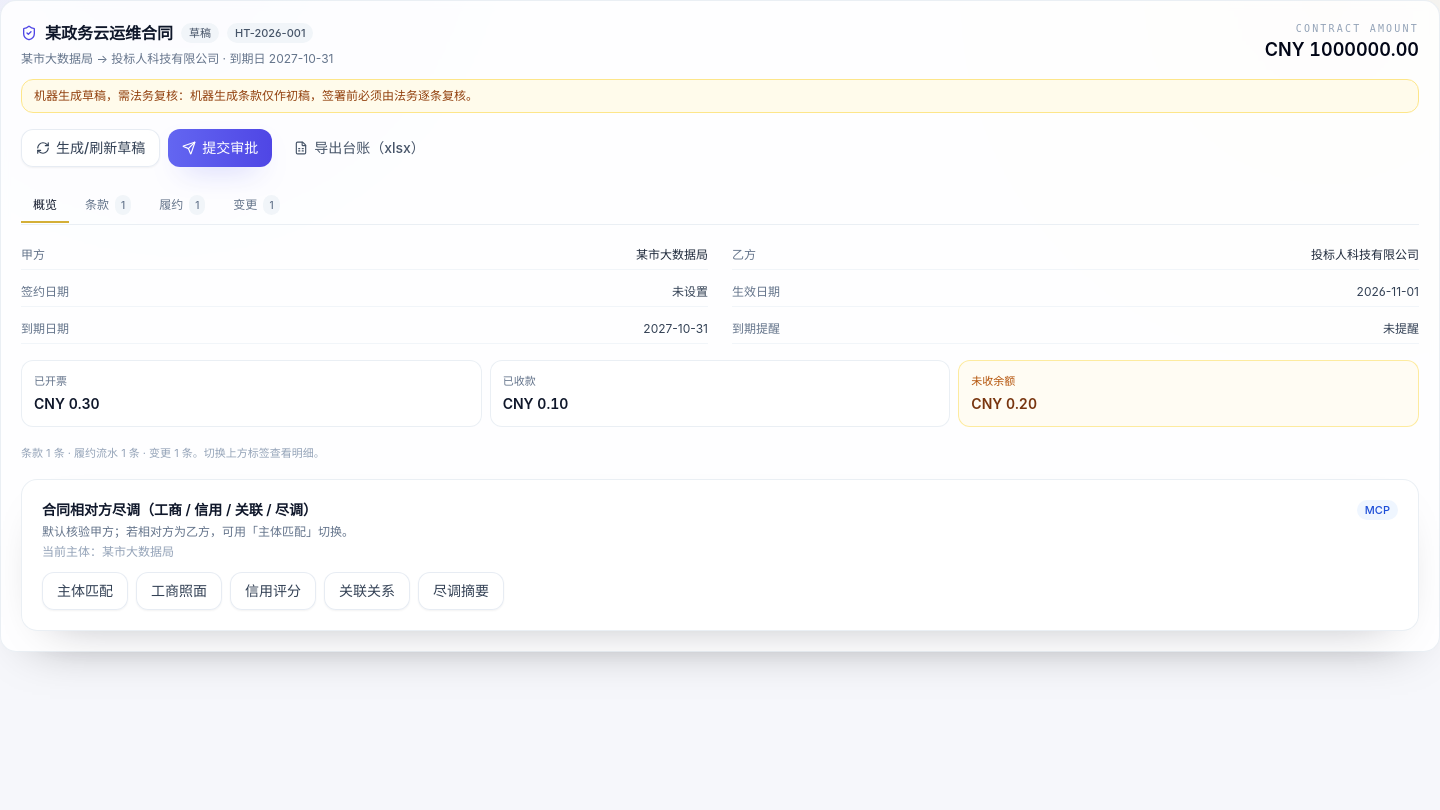
Test: ContractLifecyclePanel › renders master data, draft disclaimer, source tracing and ledger summary
Expected: the heading "某政务云运维合同" is shown, [45, 21, 173, 45]
Expected: the text "CNY 1000000.00" is shown, [1265, 36, 1419, 64]
条款页签：草稿条款与来源追溯
Click the button "条款 1": (108, 206) [73, 187, 143, 225]
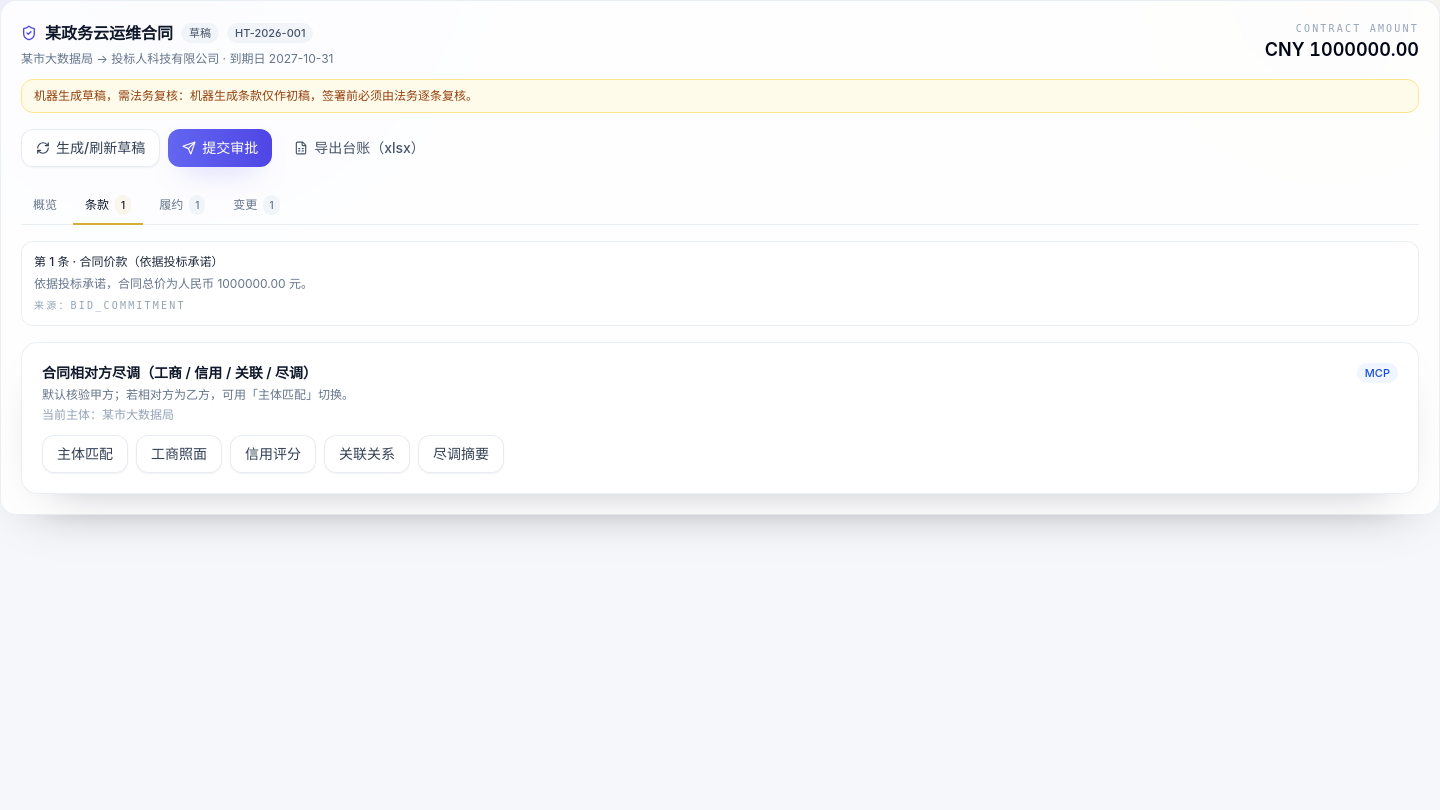
Expected: the text "合同价款（依据投标承诺）" is shown, [79, 254, 223, 269]
Expected: the text "来源：bid_commitment" is shown, [34, 300, 186, 311]
履约页签：台账汇总
Click the button "履约 1": (182, 206) [147, 187, 217, 225]
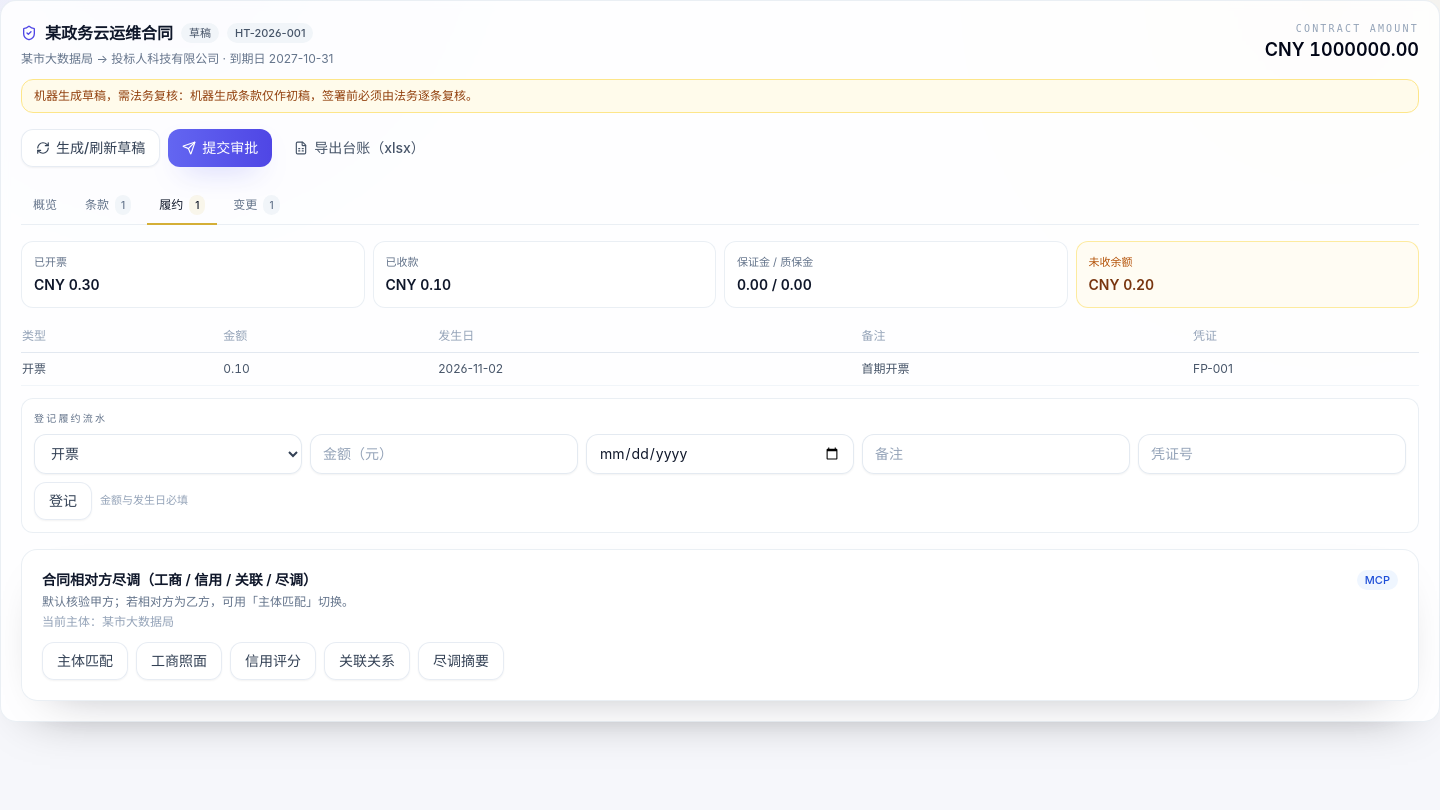
Expected: the text "CNY 0.30" is shown, [34, 276, 100, 292]
Expected: the text "CNY 0.20" is shown, [1088, 276, 1154, 292]
变更页签：变更记录
Click the button "变更 1": (256, 206) [221, 187, 292, 225]
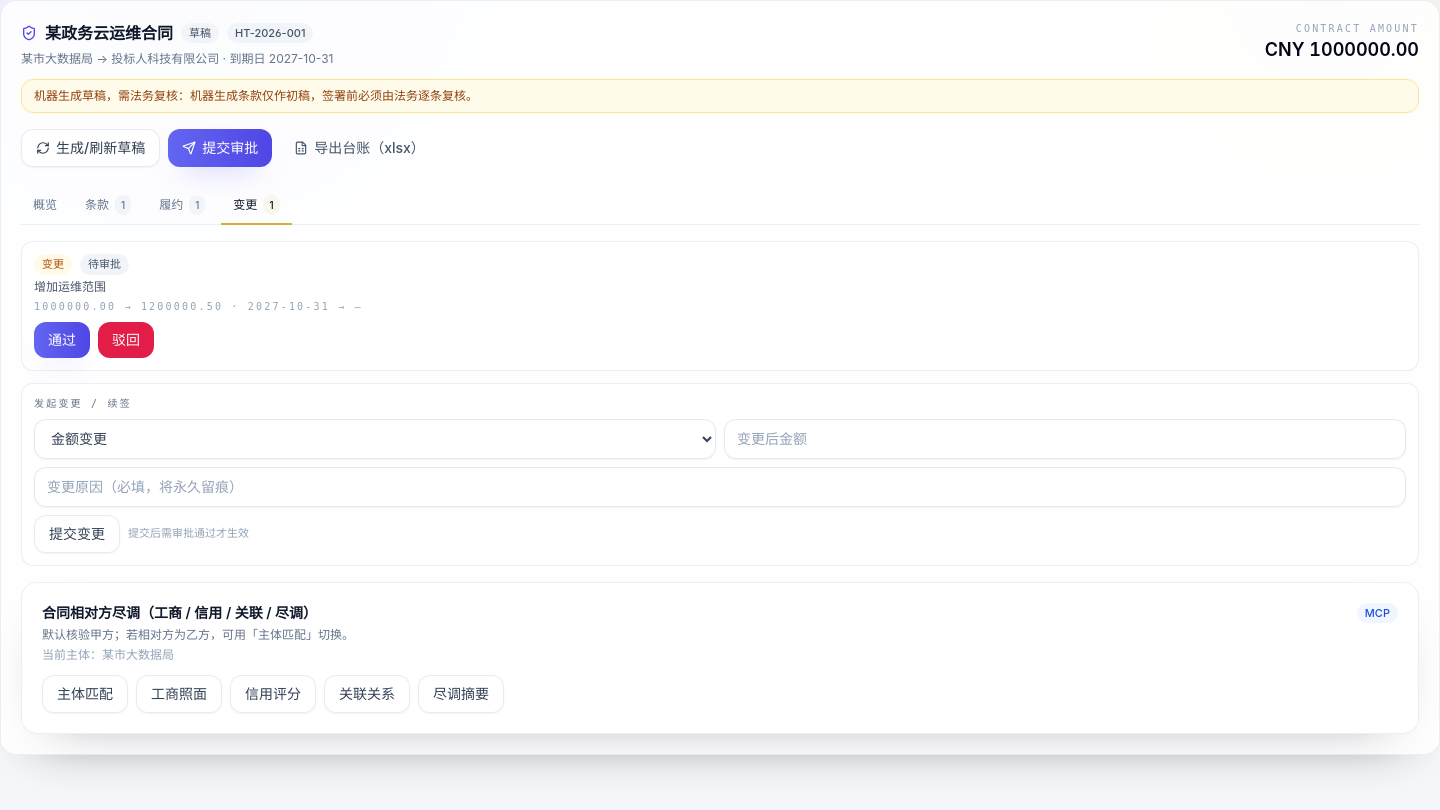
Expected: the text "增加运维范围" is shown, [34, 278, 106, 294]
